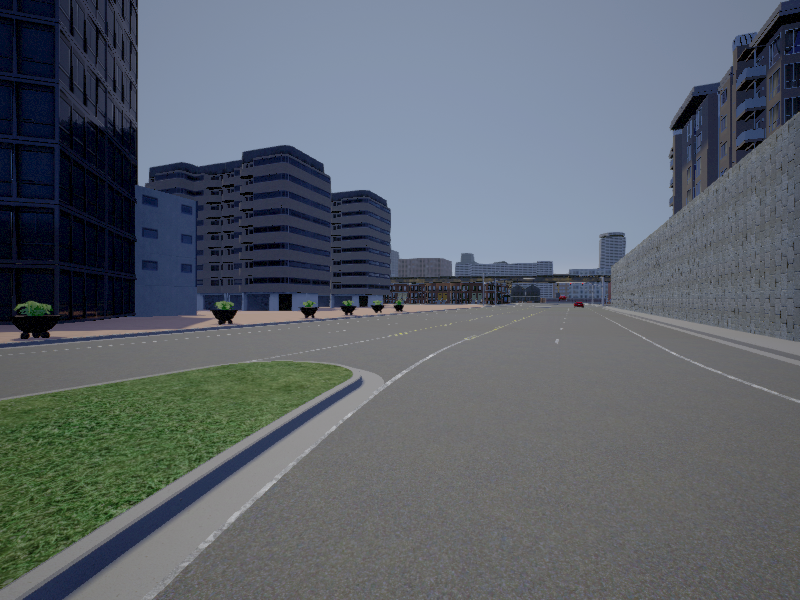Attacker: (558, 294, 567, 301)
Benign: (575, 301, 584, 308)
